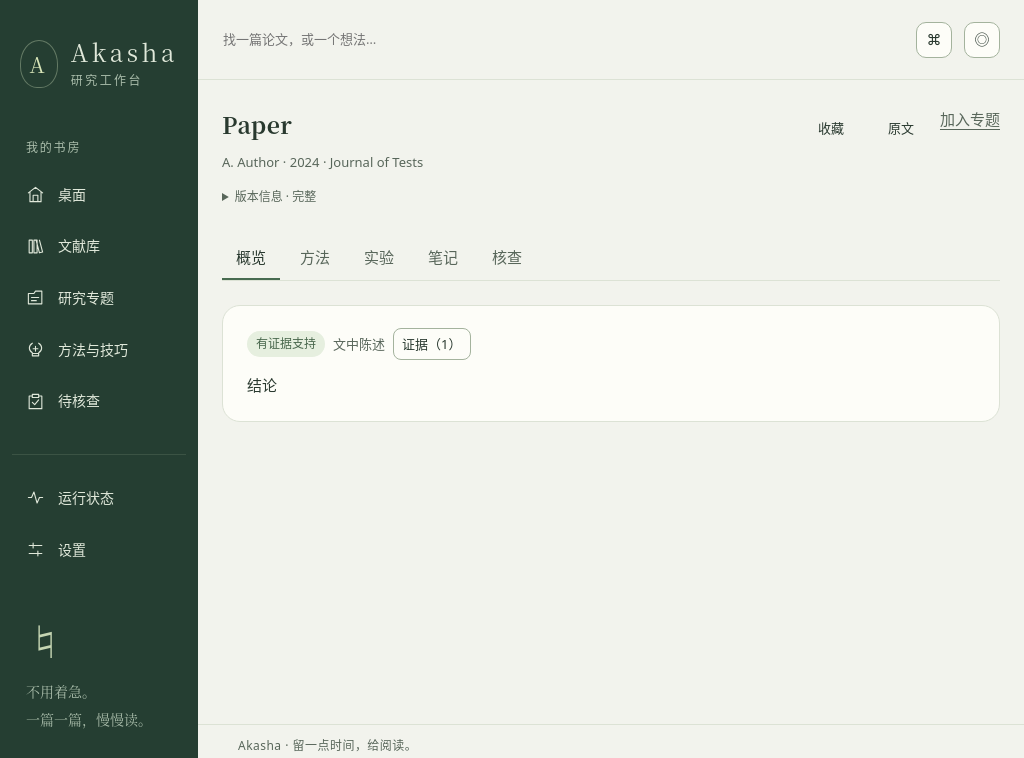
UX-031 note autosave debounces, flushes and merges conflicts › saves a new note with the pinned version as its anchor
The image size is (1024, 758).
Expected: the element with test id "pinned-version" is shown, 235,188 -> 316,205
Click the tab "笔记" at (443,259), box 414,238 -> 472,280
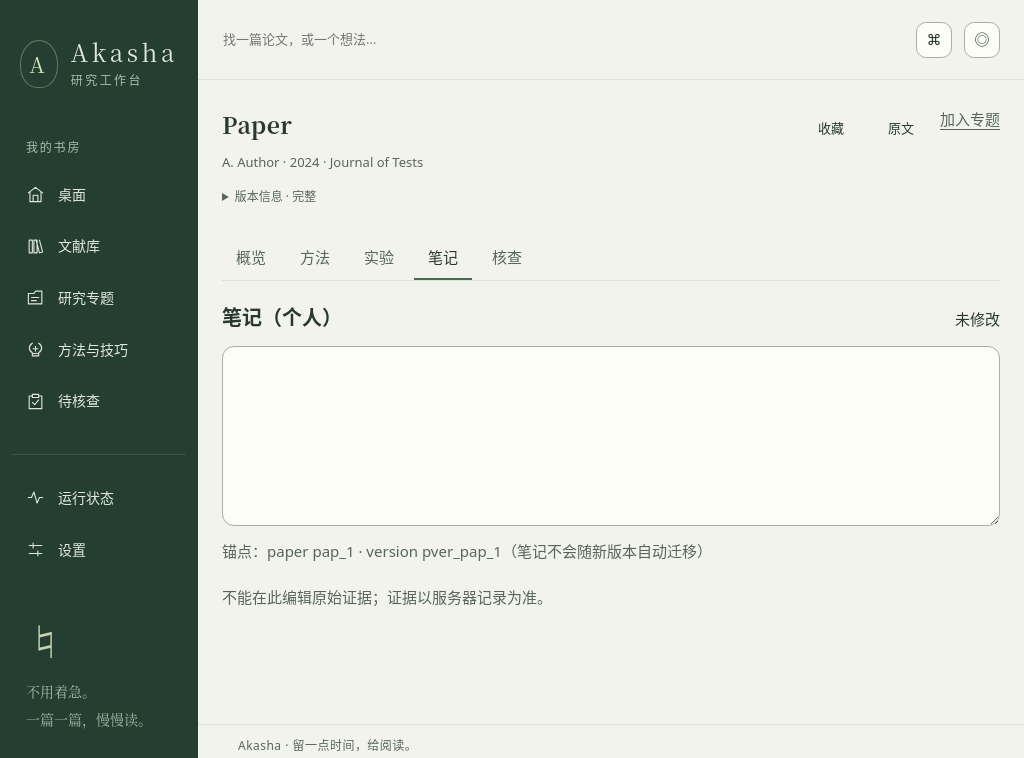
Type "first note" into the text box named "笔记正文" at (611,436), box 222,346 -> 1000,526
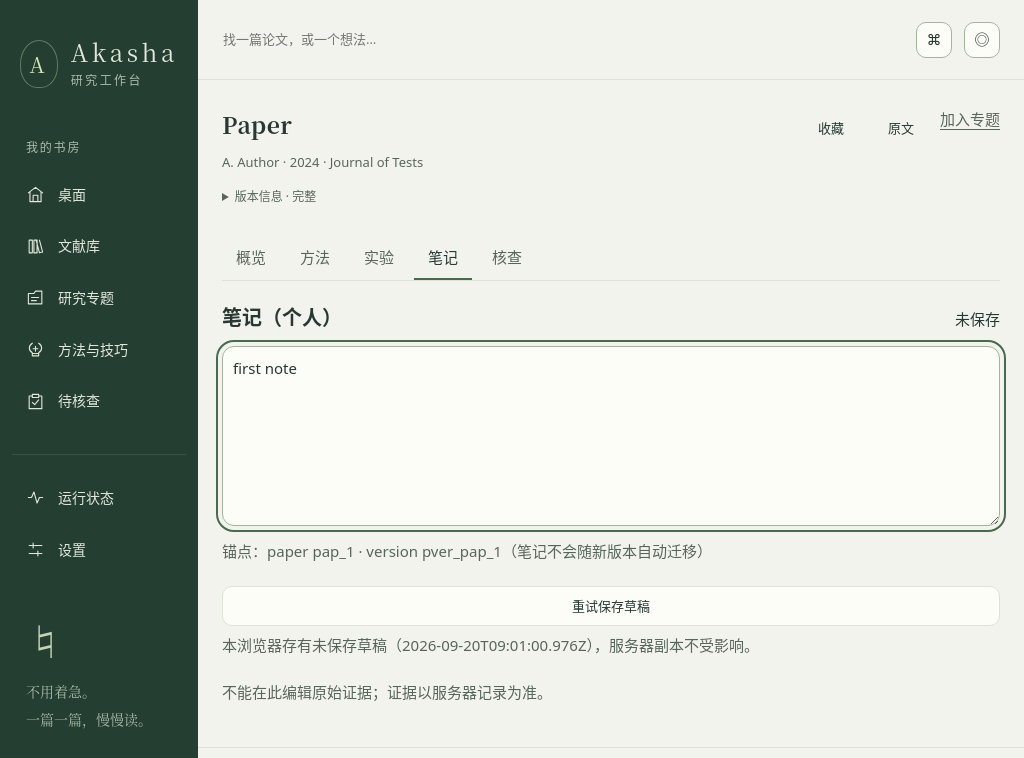
Press Tab
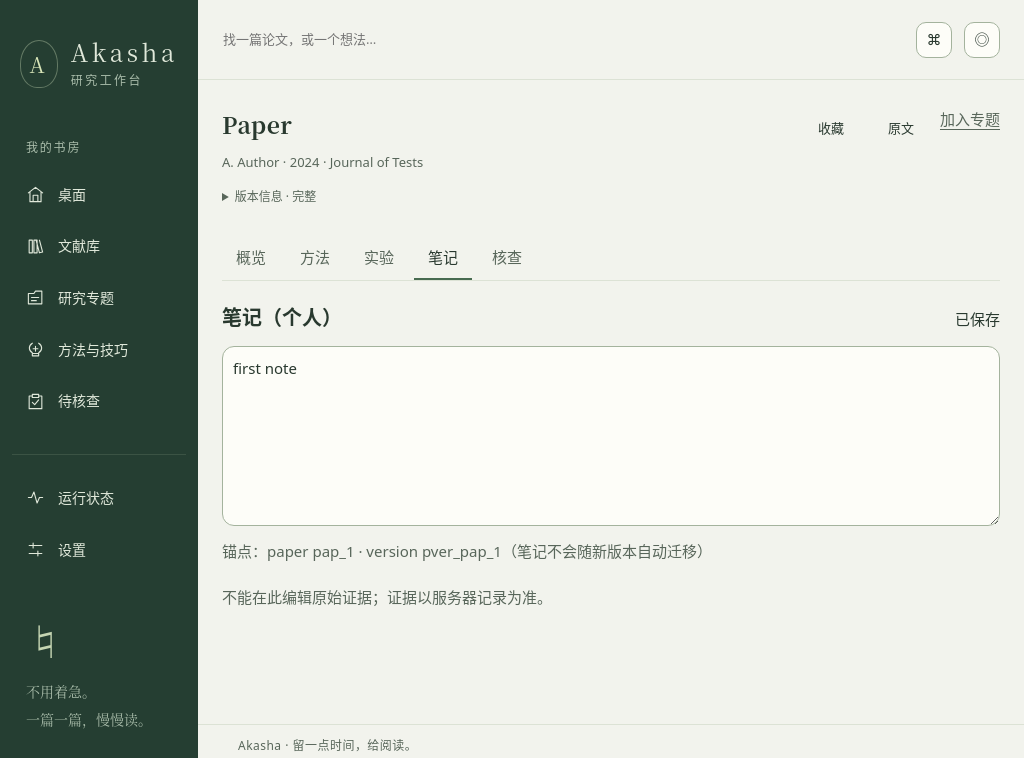
Expected: the message with test id "note-save-state" reads "已保存", 955,309 -> 1000,329
